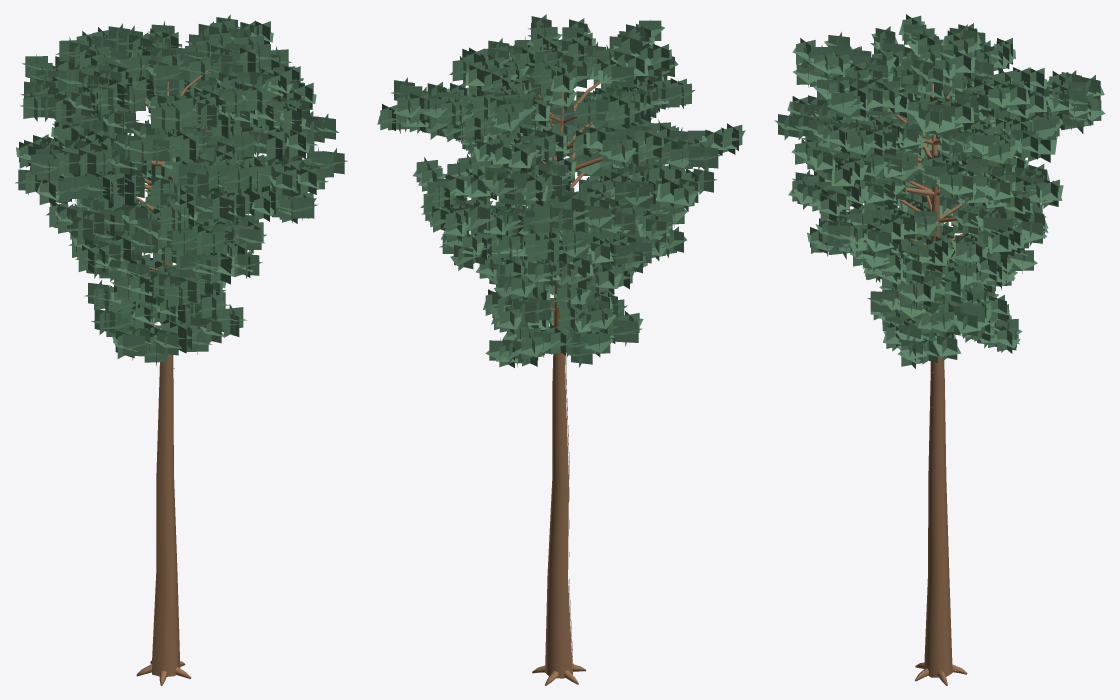
Rendered from pin_4_f2_jeu.glb.
3 renders of one model, left to right at view 1: azimuth 30°, elevation 25°; view 2: azimuth 150°, elevation 25°; view 3: azimuth 270°, elevation 25°, orthographic.
Visible parts, largest first — view 1: Pin_T4_f2_Leger; view 2: Pin_T4_f2_Leger; view 3: Pin_T4_f2_Leger.
Part boxes in pixels (x1,y1,x2,y2): Pin_T4_f2_Leger: [15, 14, 347, 685]; Pin_T4_f2_Leger: [377, 14, 745, 685]; Pin_T4_f2_Leger: [774, 14, 1105, 685].
Size of the model in its own units: 10.09 by 18.99 by 9.19.
